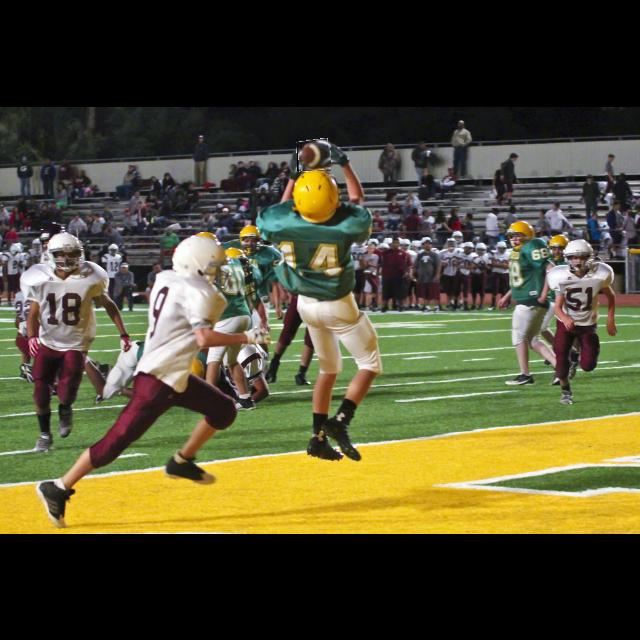Football: (297, 139, 331, 171)
